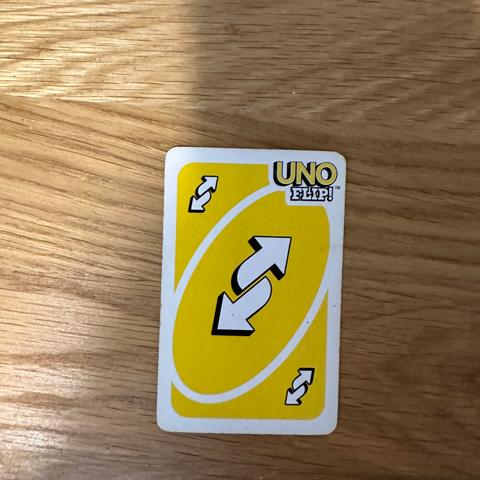draw2_yellow: (206, 229, 296, 342), (181, 170, 221, 213), (280, 363, 320, 405)
